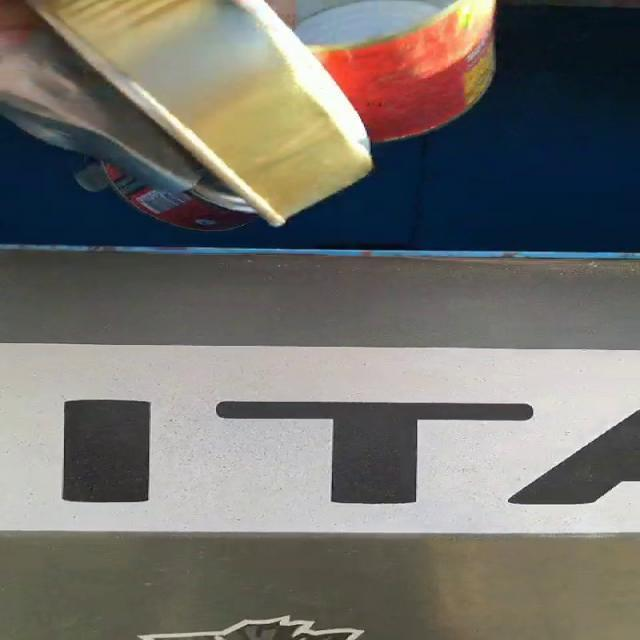Bin: (0, 7, 639, 350), (0, 533, 639, 640)
Metal: (296, 0, 496, 142)
